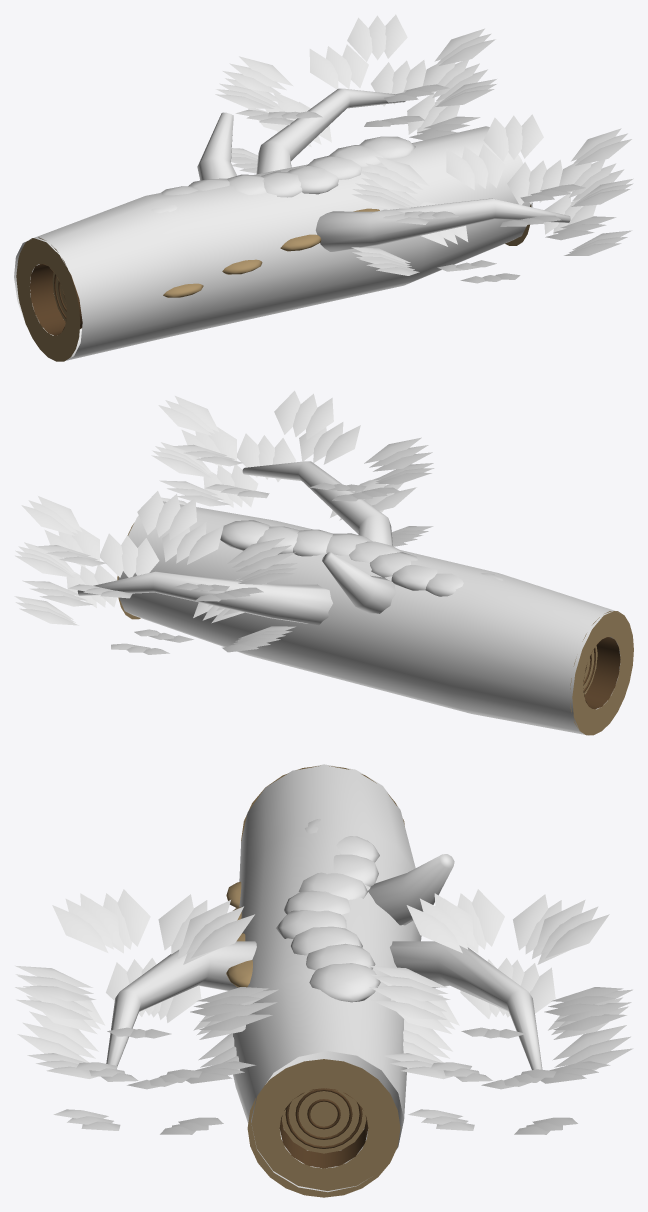
The model's file is SM_DF_FallenCrown.fbx.
The picture shows the model from 3 angles, top to bottom: view 1: azimuth 30°, elevation 25°; view 2: azimuth 150°, elevation 25°; view 3: azimuth 270°, elevation 25°; orthographic projection. The views are drawn at different scales.
Parts seen in each view (by area): view 1: SM_DF_FallenCrown; view 2: SM_DF_FallenCrown; view 3: SM_DF_FallenCrown.
Boxes of the visible parts, x1,y1,x2,y2 form: SM_DF_FallenCrown: [14, 14, 633, 361]; SM_DF_FallenCrown: [14, 390, 633, 735]; SM_DF_FallenCrown: [15, 764, 633, 1197].
Bounding box in the file's own units: 411 × 332 × 124.
